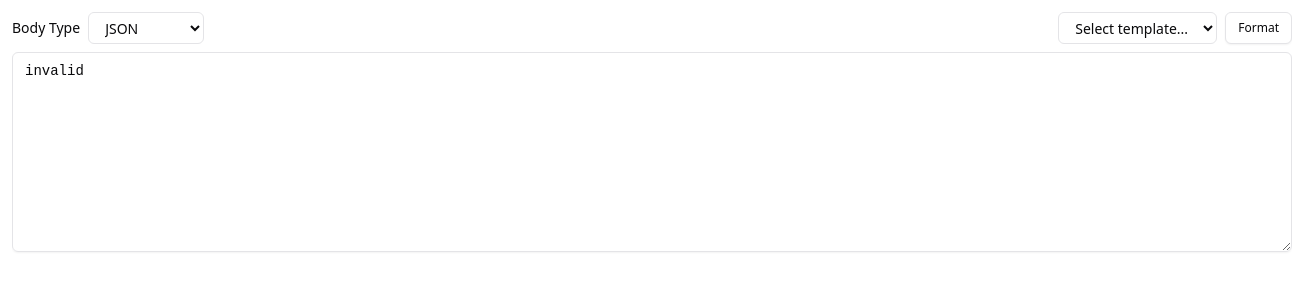
Test: BodyEditor › should show validation error for invalid JSON
Click the button "Format". click: [1259, 28]
box: [1225,12,1292,44]
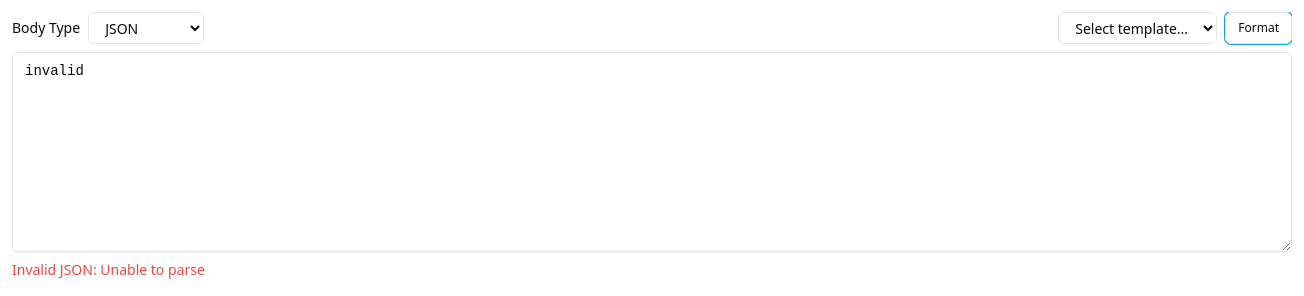
Expected: the text "Invalid JSON: Unable to parse" is shown, [12,260,205,279]
